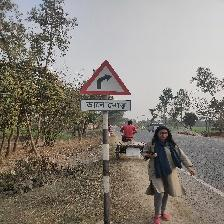Right-turn: (80, 60, 132, 111)
